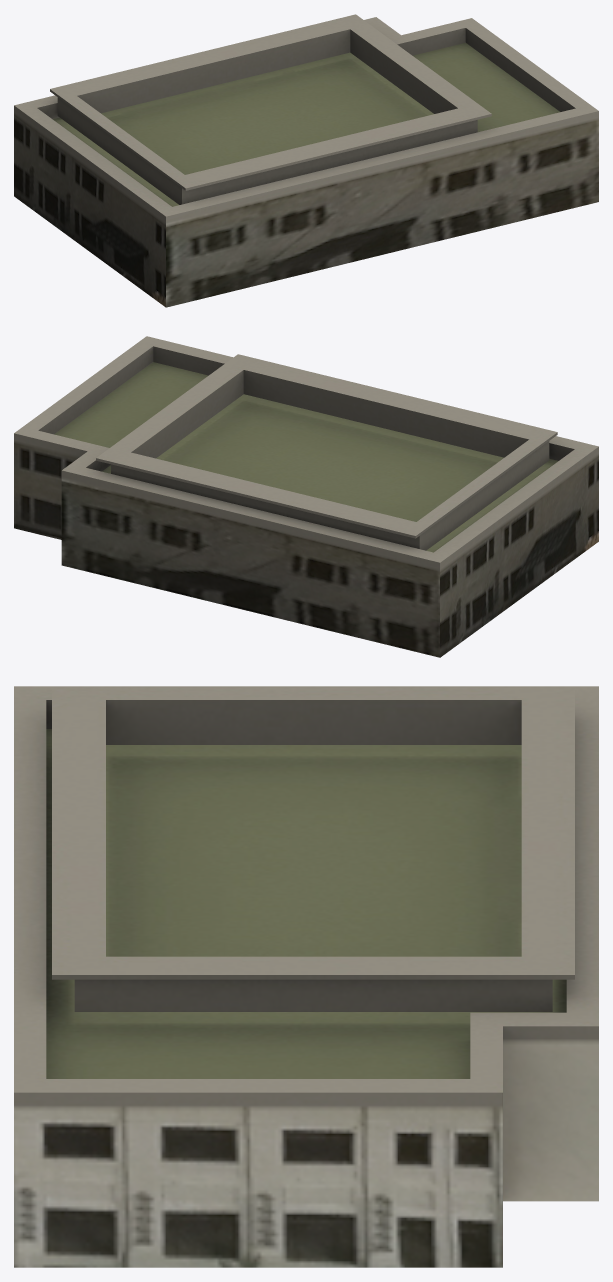
Rendered from builder_6.FBX.
3 renders of one model, top to bottom at view 1: azimuth 30°, elevation 25°; view 2: azimuth 150°, elevation 25°; view 3: azimuth 270°, elevation 25°, orthographic. The views are drawn at different scales.
Visible parts, largest first — view 1: builder_6; view 2: builder_6; view 3: builder_6.
Boxes of the visible parts, <box> form: builder_6: <box>14,14,598,307</box>; builder_6: <box>14,336,598,657</box>; builder_6: <box>14,686,598,1267</box>.
Bounding box in the file's own units: 35520 × 8210 × 21608.
